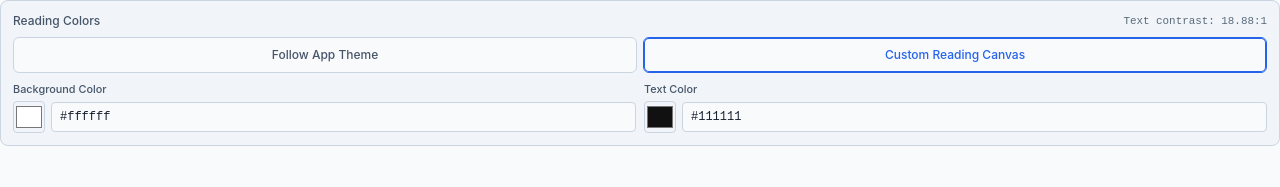
Test case: ReaderCanvasColorControls › keeps a low-contrast draft local and exposes an accessible warning
Step 1. Replace the text in the field with test id "reader-canvas-text-input" showing "Text Color" with "#eeeeee" → [974, 117], box x1=682 y1=102 x2=1267 y2=132
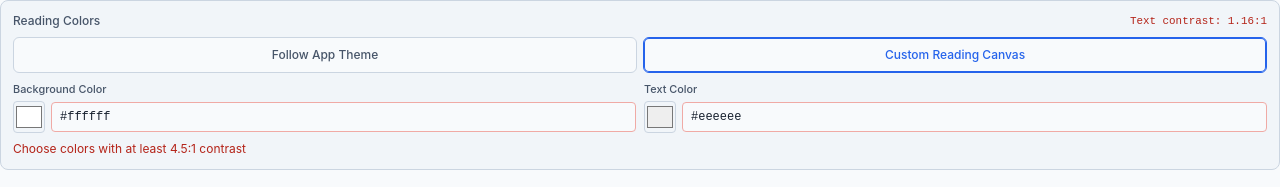
Expected: the text "Choose colors with at least 4.5:1 contrast" is shown, x1=13 y1=141 x2=246 y2=156
